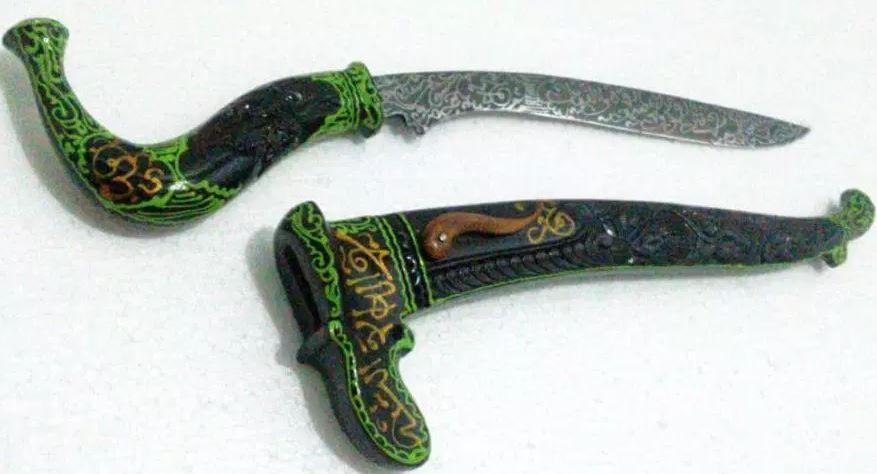espada: (3, 19, 808, 225)
